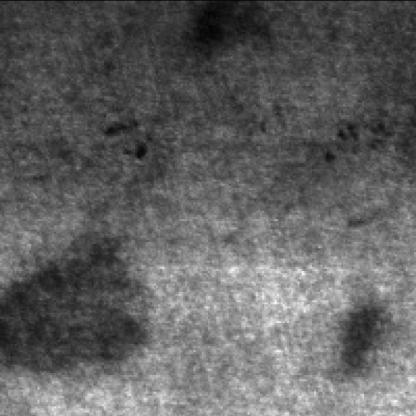patches: (2, 229, 156, 381), (337, 294, 397, 368), (192, 0, 276, 52)
